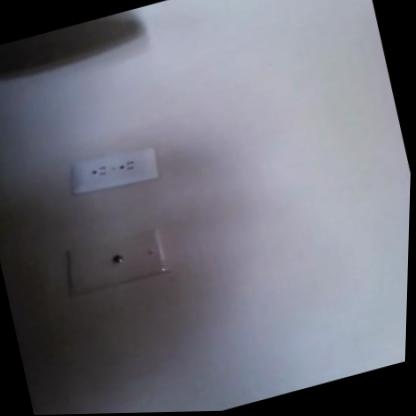OUTLET: (67, 142, 161, 200)
